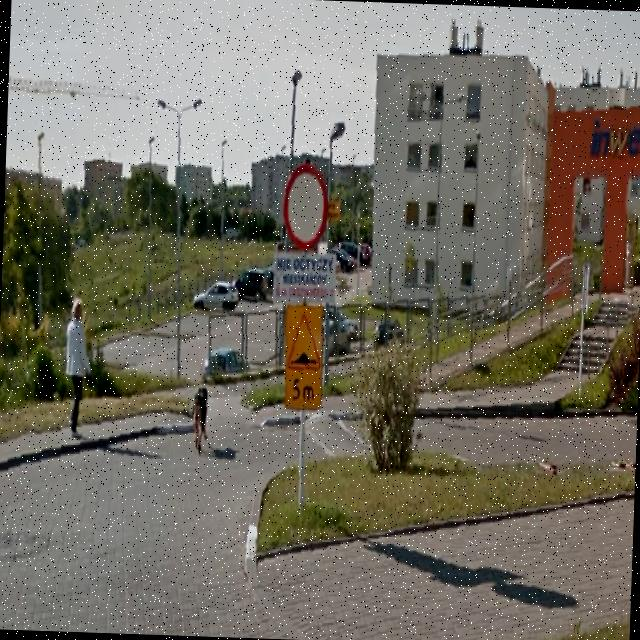Zakaz ruchu w obu kierunkach: (280, 160, 328, 250)
